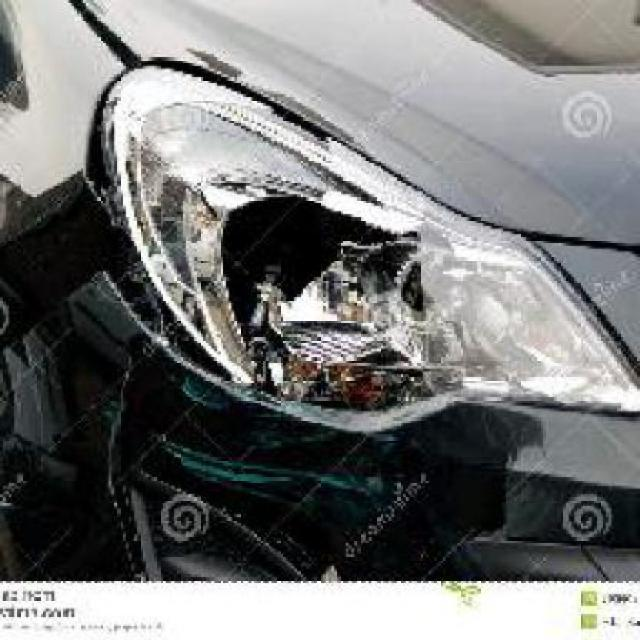damaged-head-light: (92, 51, 640, 432)
